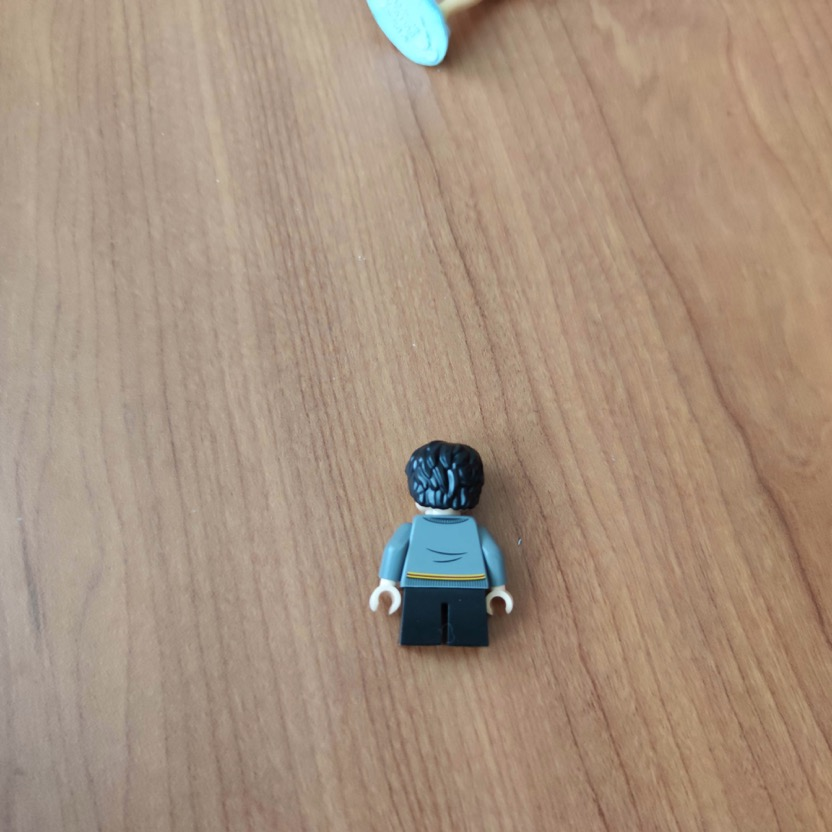lego: (369, 441, 513, 648)
